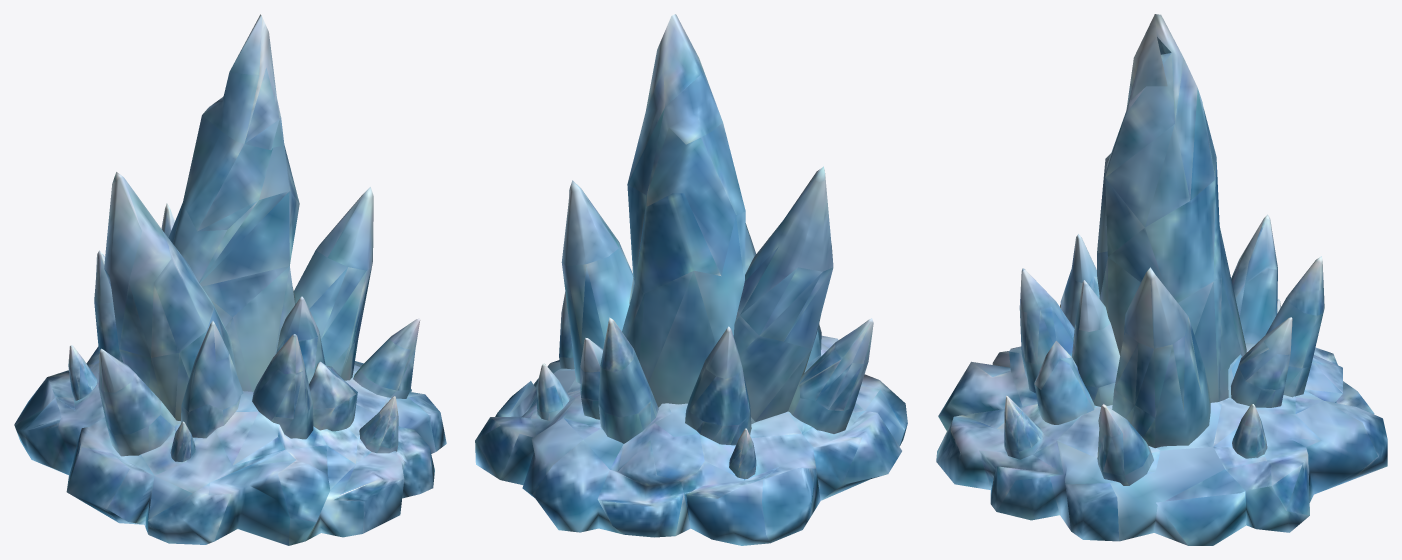
Rendered from ice_spikes_1_low.glb.
3 renders of one model, left to right at view 1: azimuth 30°, elevation 25°; view 2: azimuth 150°, elevation 25°; view 3: azimuth 270°, elevation 25°, orthographic. The views are drawn at different scales.
Visible parts, largest first — view 1: Mesh_0.004; view 2: Mesh_0.004; view 3: Mesh_0.004.
Boxes of the visible parts, bbox=[...] form: Mesh_0.004: bbox=[14, 14, 446, 545]; Mesh_0.004: bbox=[475, 14, 907, 545]; Mesh_0.004: bbox=[936, 14, 1387, 545].
Bounding box in the file's own units: 0.875 × 1 × 0.9082.
Materials: 1 (1 with a texture image).
